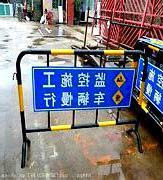sign: (31, 66, 133, 112)
